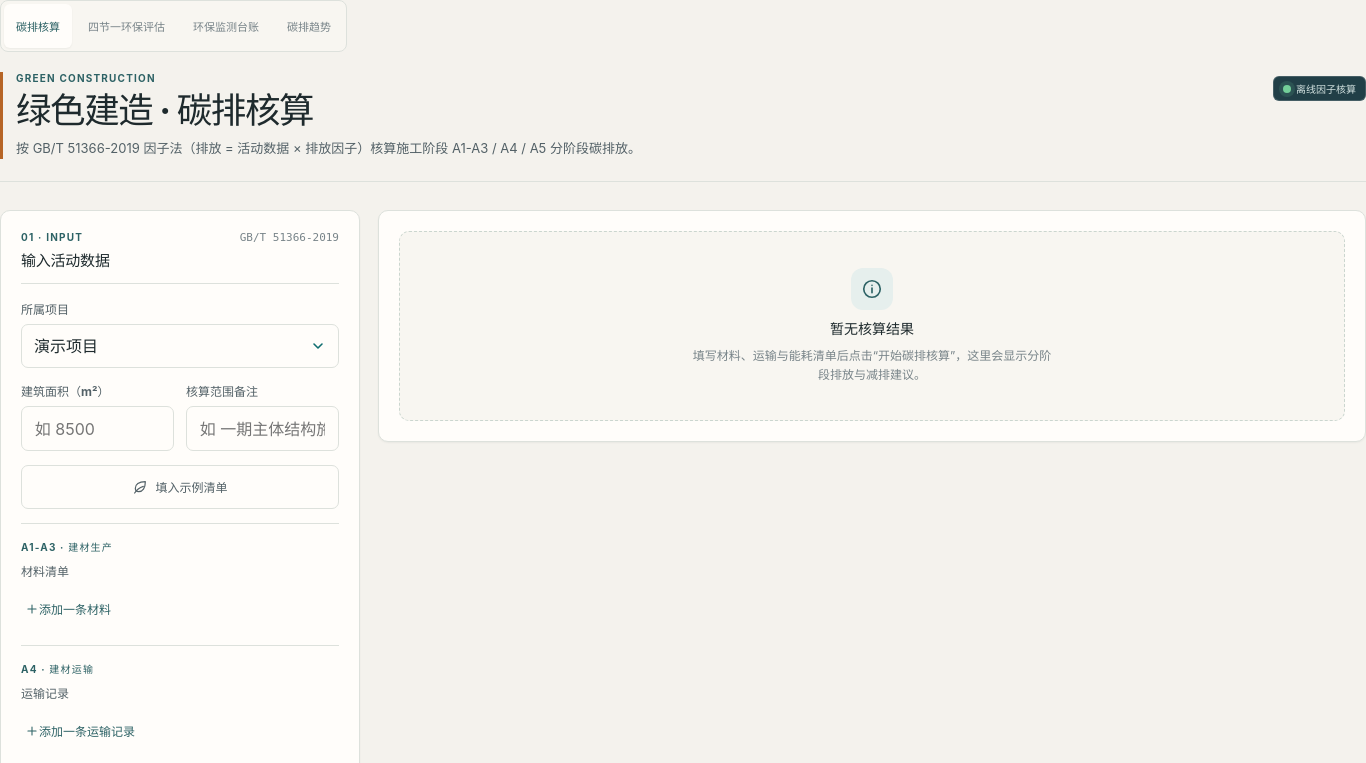
Test: GreenConstructionView 扩展 Tab › 台账页用告警行与超标徽标渲染超标读数
Click the button "环保监测台账".
click(226, 26)  # box left=181, top=4, right=271, bottom=48
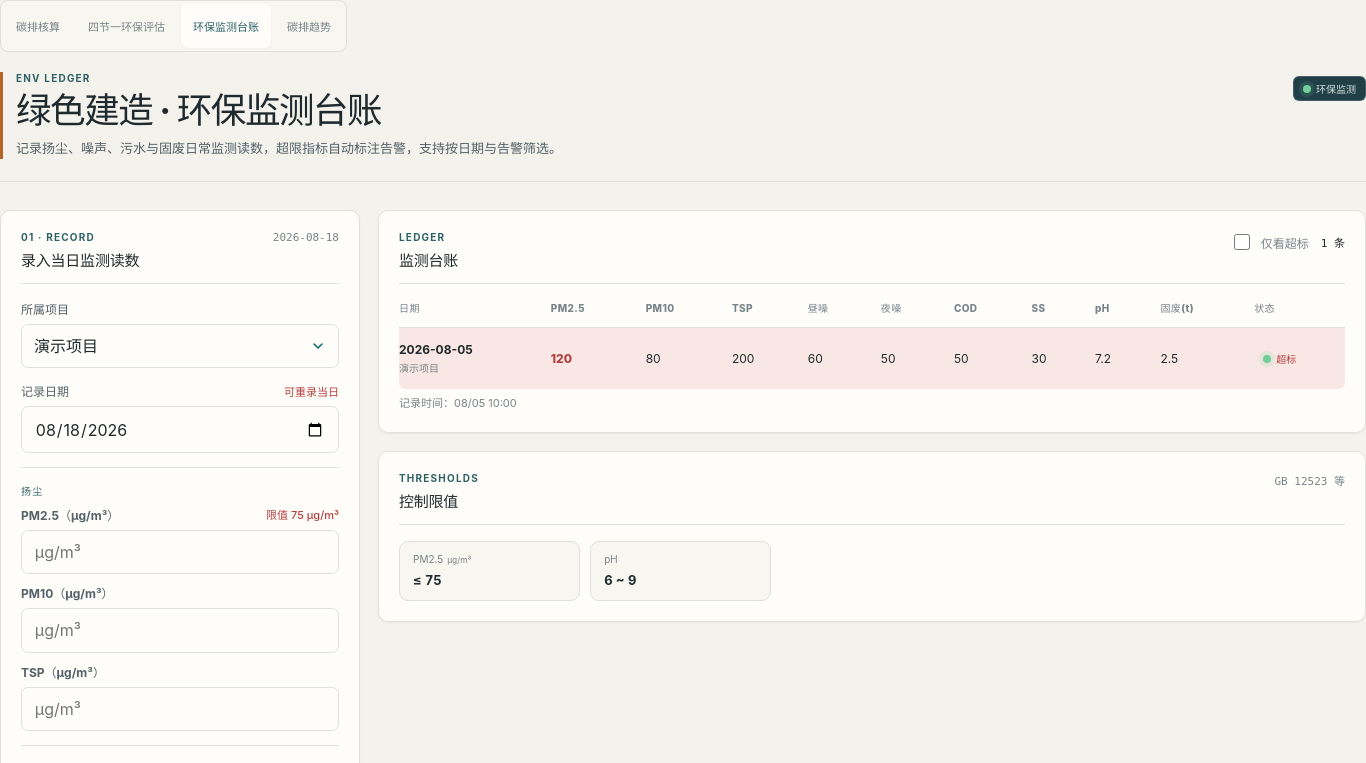
Now the row with class "alert-row" is shown, box left=399, top=328, right=1345, bottom=389
Now the element with class "danger" reads "超标", box left=1276, top=353, right=1296, bottom=365
Now the cell with class "alert-cell" reads "120", box left=551, top=351, right=572, bottom=366
